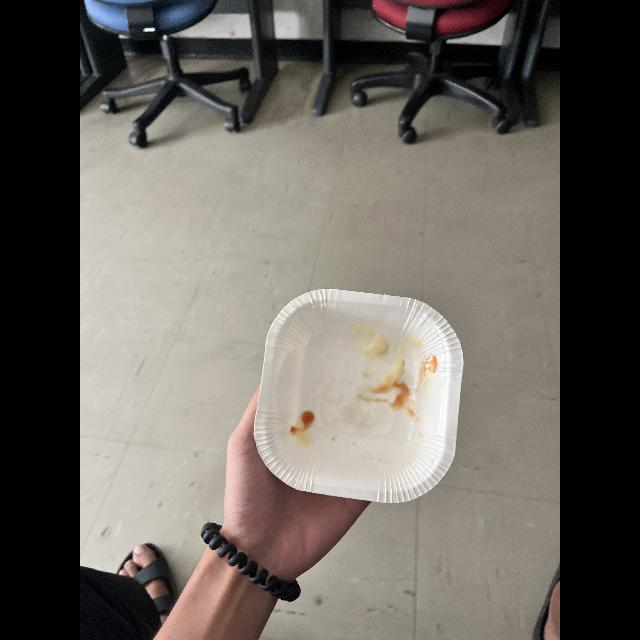cardboard_bowl: (252, 283, 474, 509)
